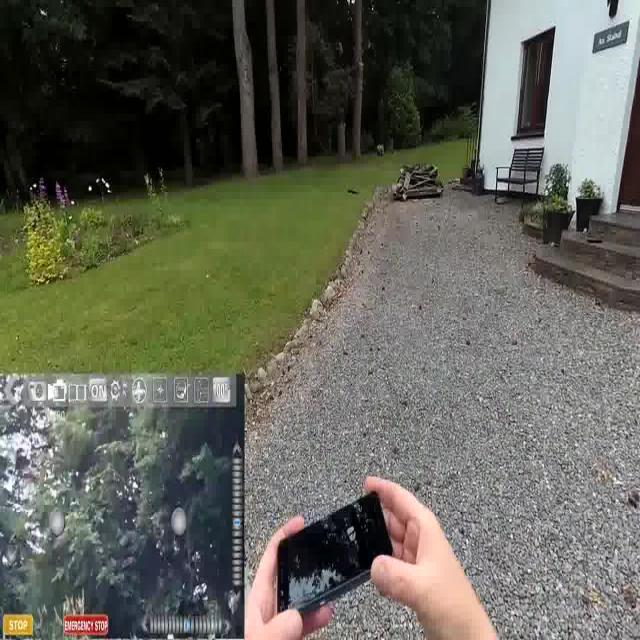drones: (346, 180, 362, 196)
